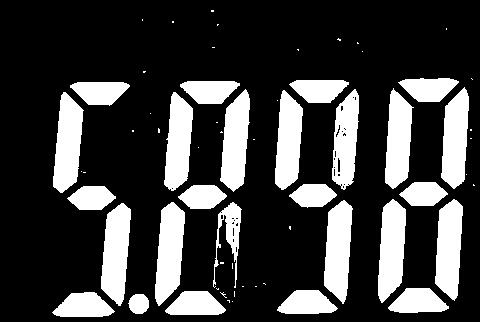5: (47, 79, 133, 319)
8: (152, 76, 254, 320), (377, 76, 473, 314)
9: (272, 79, 363, 313)
dot: (126, 291, 153, 315)
